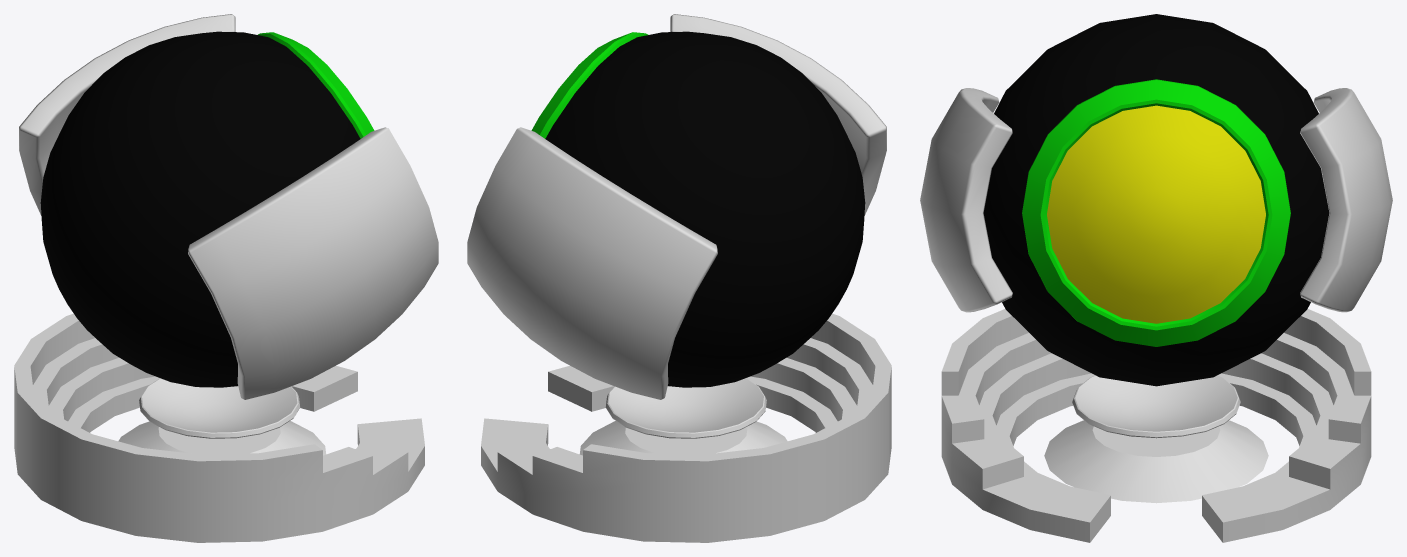
Rendered from ShaderBall_LP.fbx.
The picture shows the model from 3 angles, left to right: view 1: azimuth 30°, elevation 25°; view 2: azimuth 150°, elevation 25°; view 3: azimuth 270°, elevation 25°; orthographic projection. The views are drawn at different scales.
Visible parts, largest first — view 1: Parts_4, Parts_1, Parts_5, Parts_3, Parts_2; view 2: Parts_4, Parts_1, Parts_5, Parts_3, Parts_2; view 3: Parts_4, Parts_1, Parts_5, Parts_2, Parts_3.
Boxes of the visible parts, x1,y1,x2,y2 form: Parts_4: (40,31,374,387); Parts_1: (14,313,424,542); Parts_5: (19,14,438,399); Parts_3: (139,378,300,438); Parts_2: (118,421,326,455); Parts_4: (531,31,865,387); Parts_1: (481,313,891,542); Parts_5: (467,14,886,399); Parts_3: (605,378,766,438); Parts_2: (579,421,787,455); Parts_4: (983,14,1329,386); Parts_1: (941,309,1371,542); Parts_5: (920,88,1392,312); Parts_2: (1044,420,1268,503); Parts_3: (1072,375,1240,438).
Bounding box in the file's own units: 2.25 × 2.52 × 2.53.
